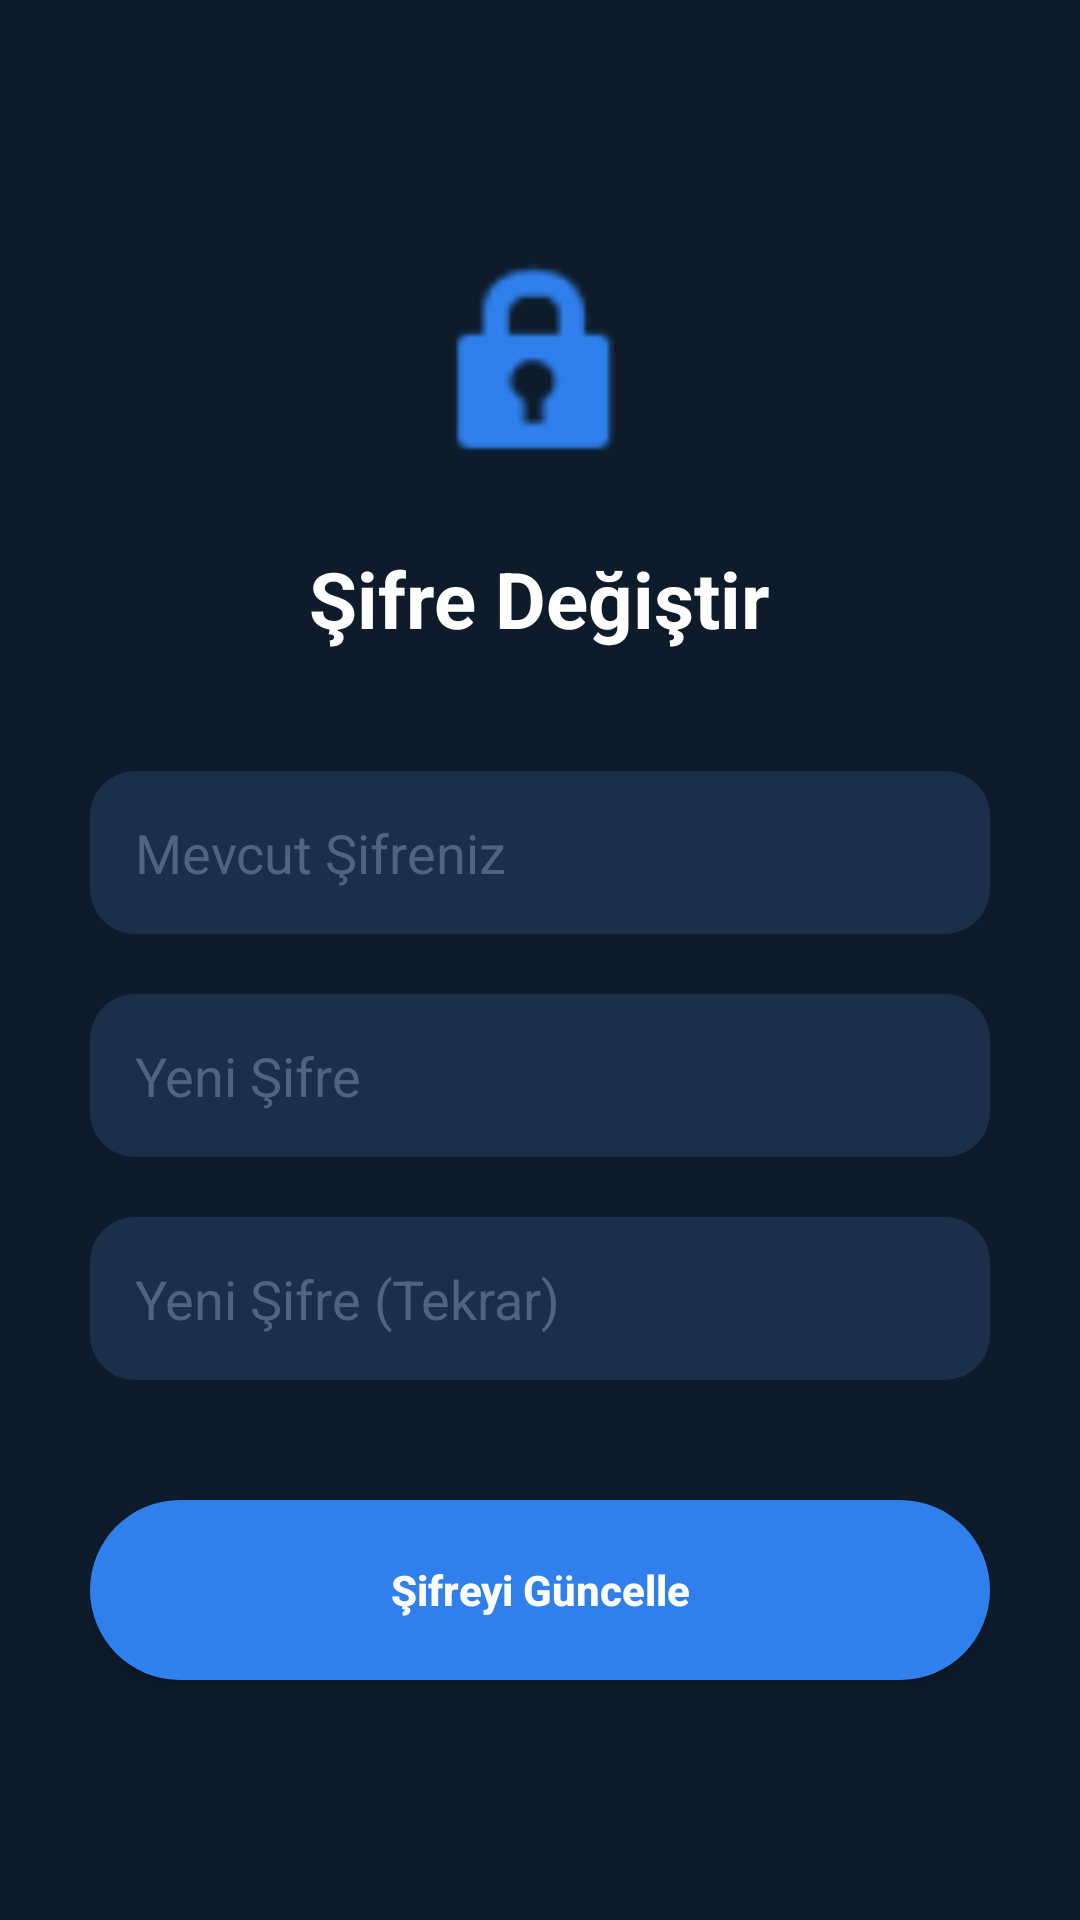

Named icons in this screenshot (1080x1920) and their bounding boxes, (x1, y1, x2, y2):
lock idle: (456, 266, 613, 450)
